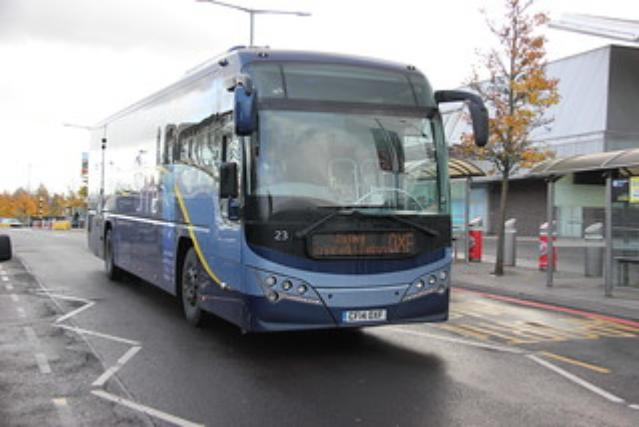bus: (84, 44, 453, 337)
